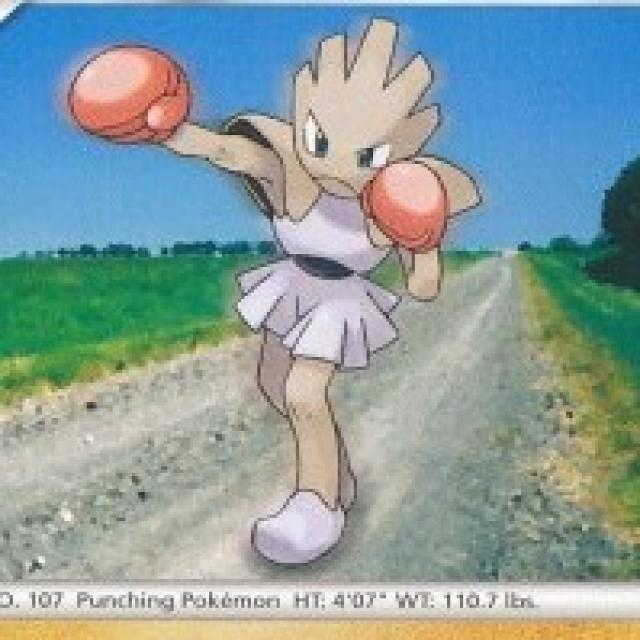Hitmonchan: (68, 20, 474, 563)
